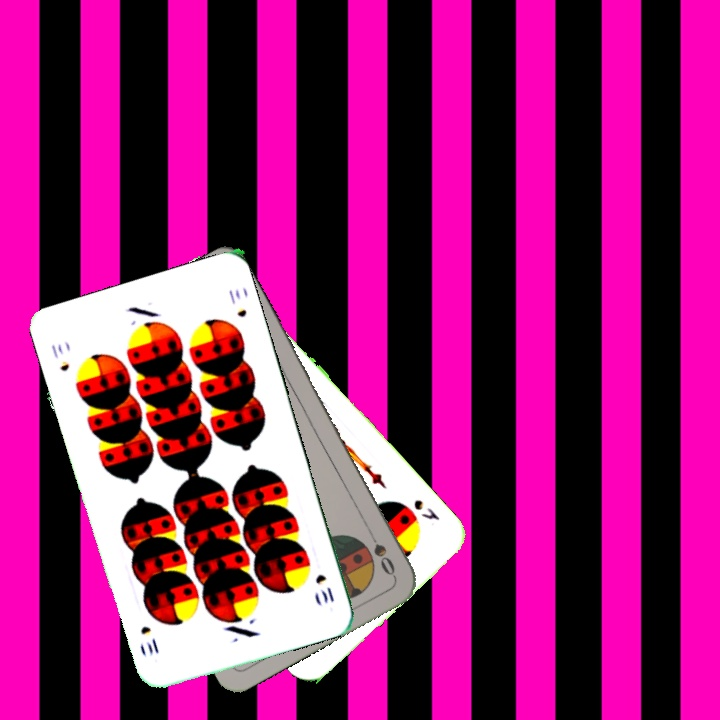S10: (311, 570, 337, 606), (47, 339, 72, 374)
SK: (409, 495, 443, 523)
SO: (363, 524, 399, 579)
